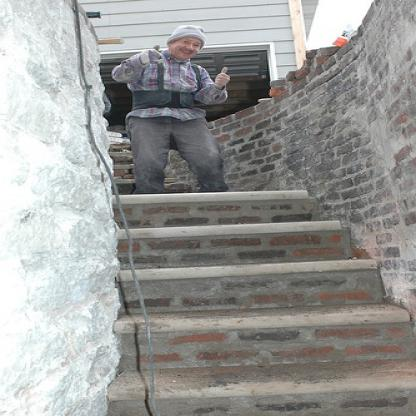stairs: (143, 221, 346, 416)
